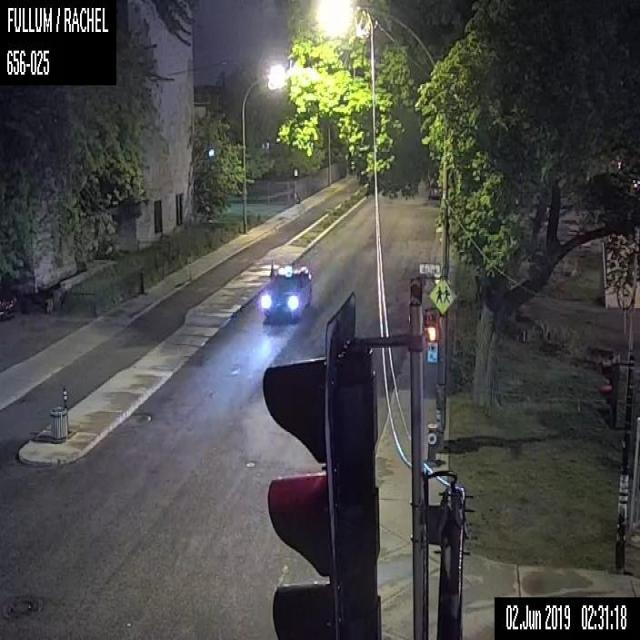construction: (268, 258, 275, 276)
vehicle: (260, 263, 311, 321), (429, 180, 441, 197)
